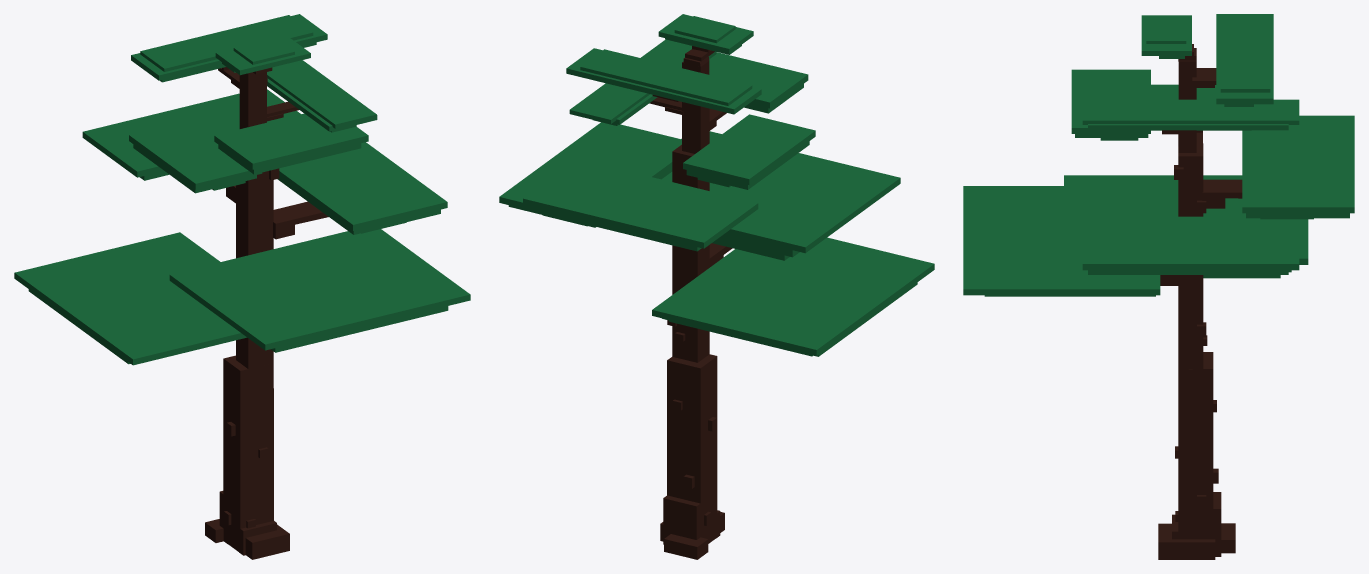
File: Pine.glb
3 renders of one model, left to right at view 1: azimuth 30°, elevation 25°; view 2: azimuth 150°, elevation 25°; view 3: azimuth 270°, elevation 25°, orthographic. The views are drawn at different scales.
Parts seen in each view (by area): view 1: Shrubs, Trunk; view 2: Shrubs, Trunk; view 3: Shrubs, Trunk.
Part boxes in pixels (x1,y1,x2,y2): Shrubs: (14, 14, 470, 365); Trunk: (205, 67, 328, 559); Shrubs: (499, 14, 934, 356); Trunk: (649, 46, 732, 559); Shrubs: (963, 14, 1354, 296); Trunk: (1158, 44, 1242, 559).
Bounding box in the file's own units: 3.21 × 4.78 × 3.26.
